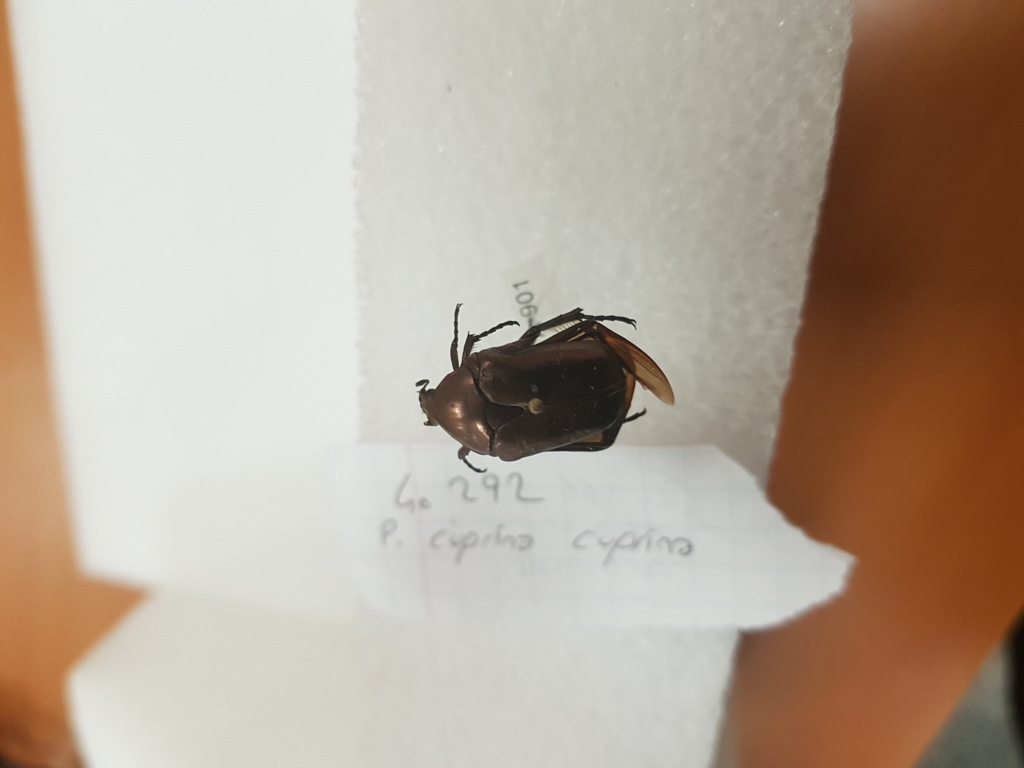Protaetia_cuprina_cuprina: (409, 299, 682, 487)
